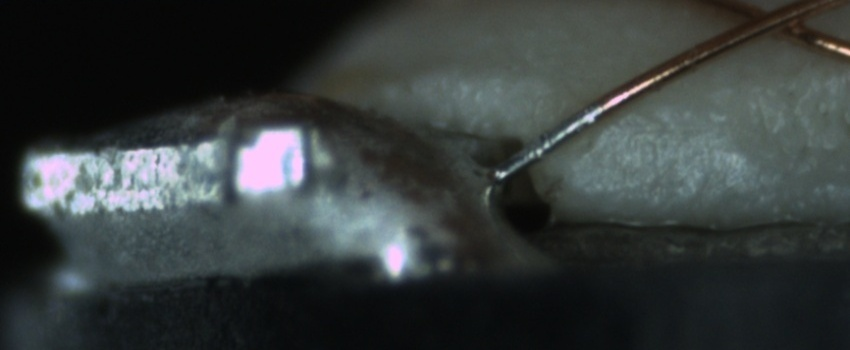CL: (722, 1, 832, 44)
DL: (594, 103, 726, 157)
TS: (499, 100, 604, 185)
